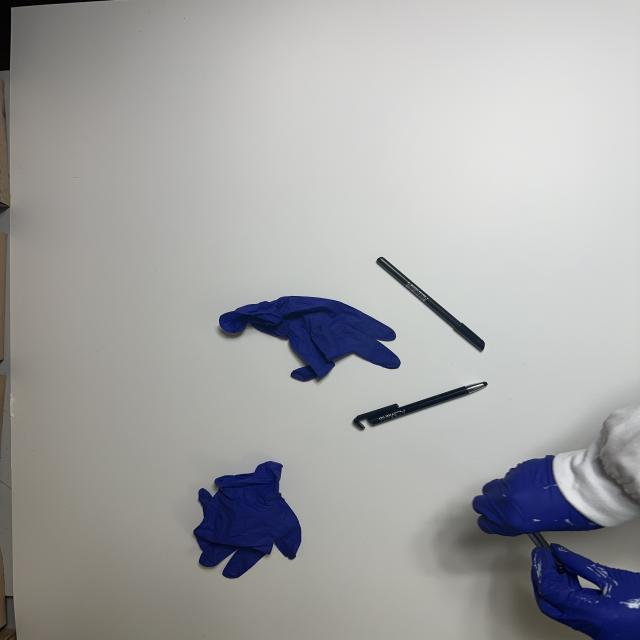gloves_contaminated: (531, 544, 640, 640), (472, 456, 602, 536)
